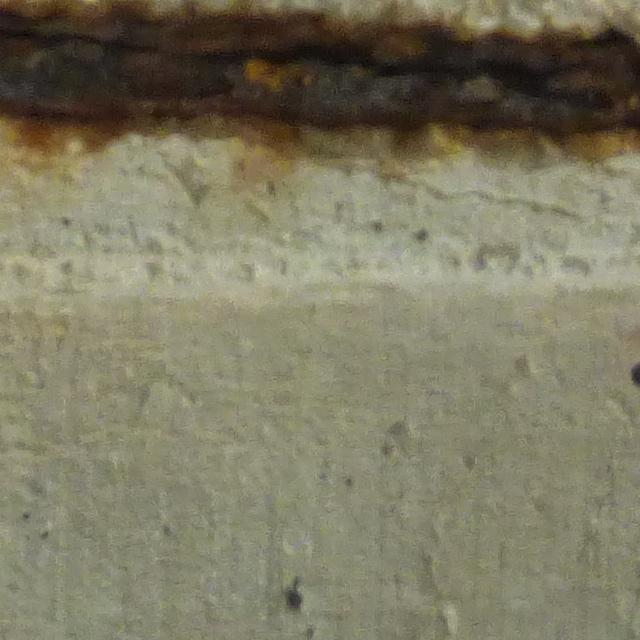Rust: (4, 1, 636, 152)
